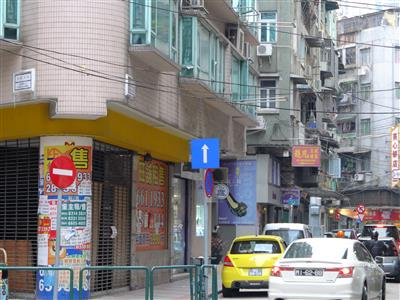noEntry: (45, 152, 81, 195)
noParking: (200, 165, 220, 199)
oneway: (187, 135, 222, 170)
